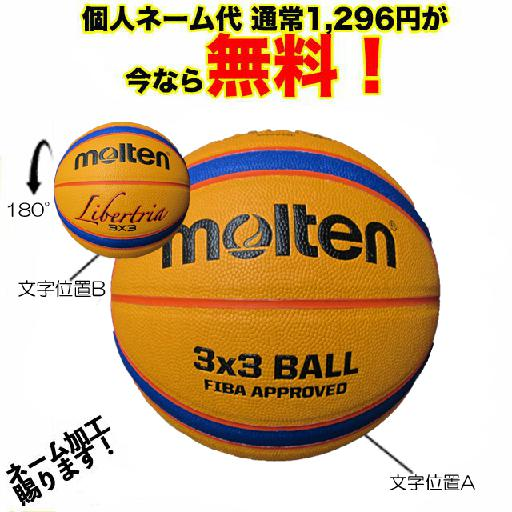ball: (53, 121, 189, 258)
